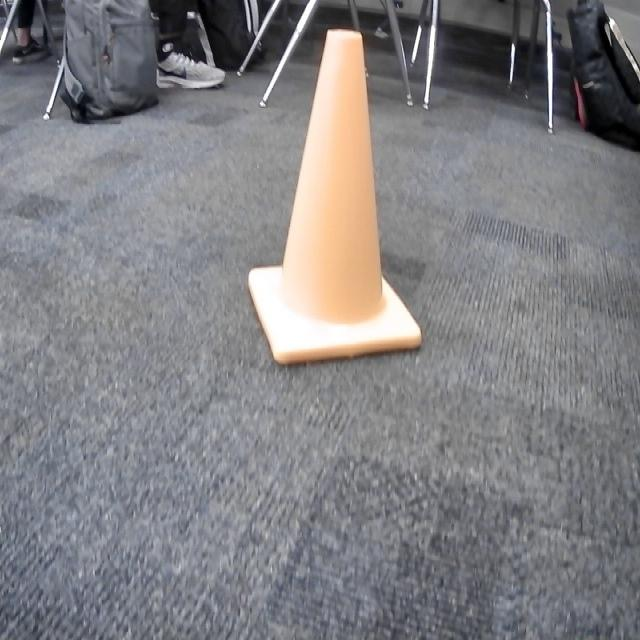cone: (248, 28, 422, 369)
